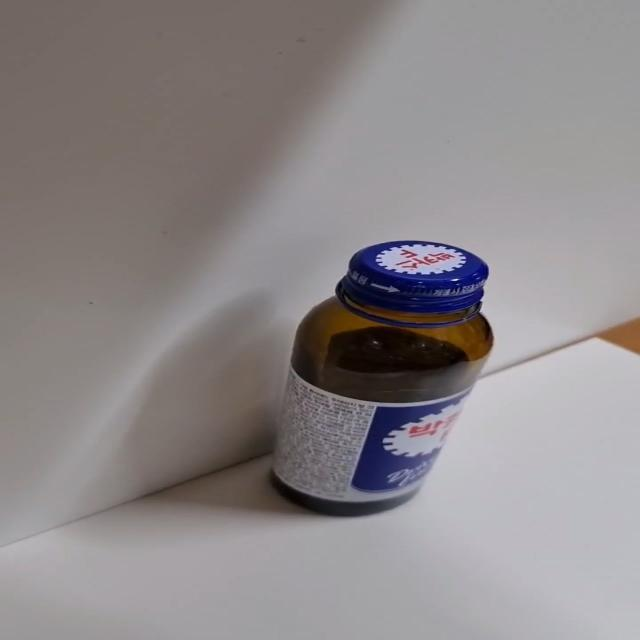Glass: (268, 240, 495, 520)
